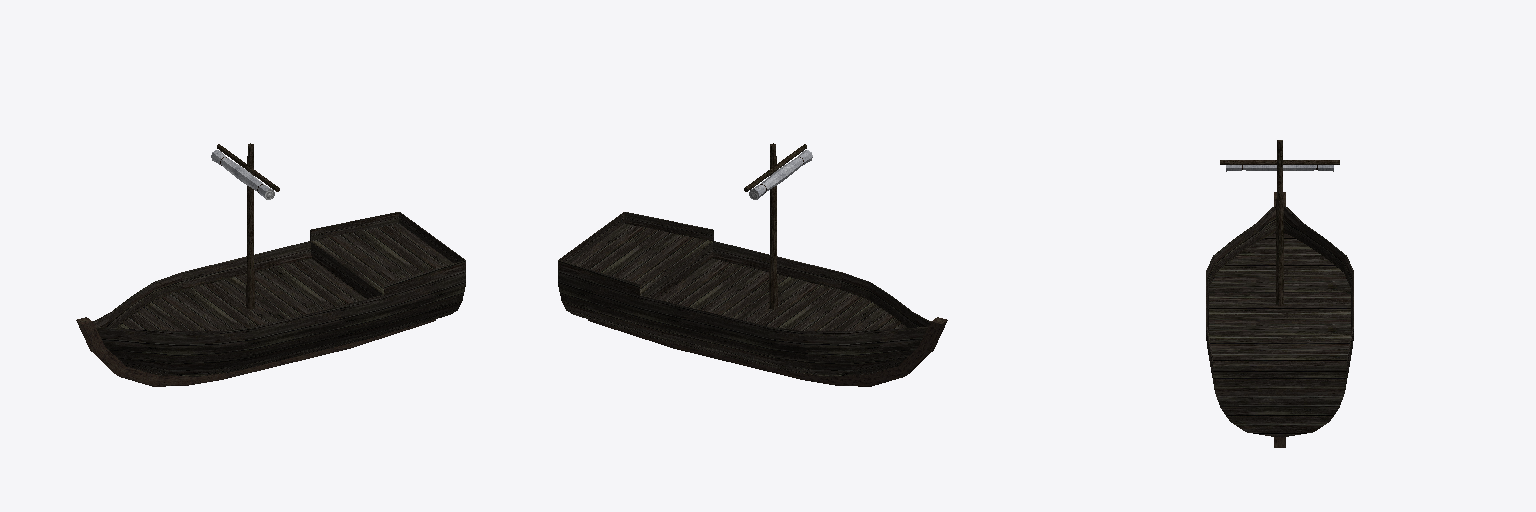
3 views of the same model, side by side, from view 1: azimuth 30°, elevation 25°; view 2: azimuth 150°, elevation 25°; view 3: azimuth 270°, elevation 25° (orthographic).
Visible parts, largest first — view 1: skin; view 2: skin; view 3: skin.
Boxes of the visible parts, box(x1,y1,x2,y2) form: skin: box(76, 143, 465, 386); skin: box(558, 143, 947, 386); skin: box(1206, 140, 1353, 447).
Size of the model in its own units: 32.99 by 20.05 by 12.
Materials: 1 (1 with a texture image).